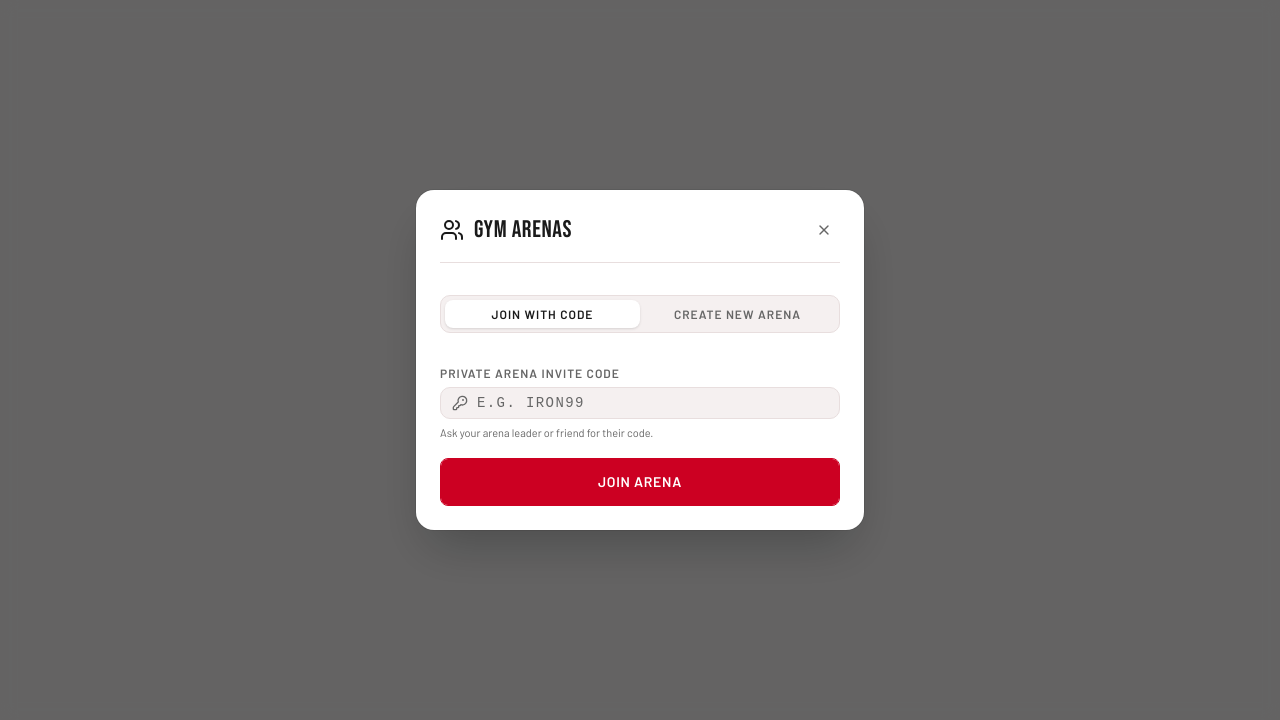
ModelCreateJoinArena › switches to create tab
Click the button "Create New Arena": (738, 314) [640,300,835,328]
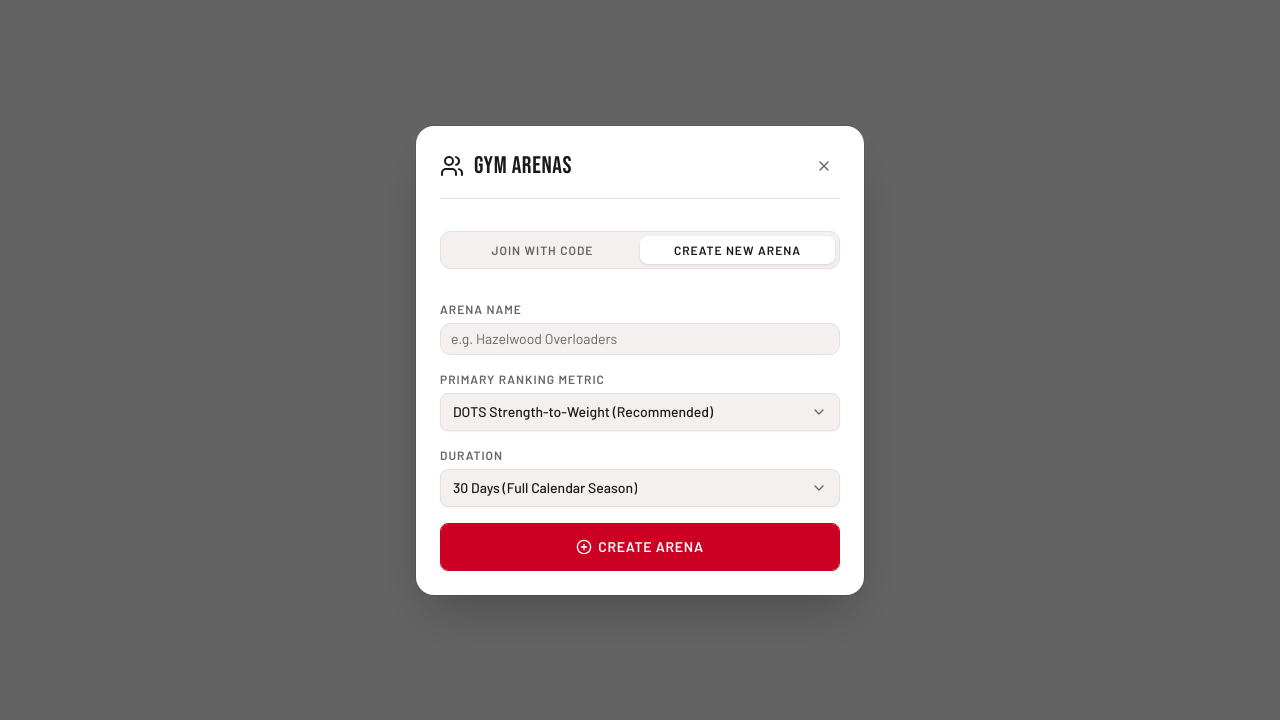
Expected: the field with placeholder "e.g. Hazelwood Overloaders" is shown, [440,322,840,354]
